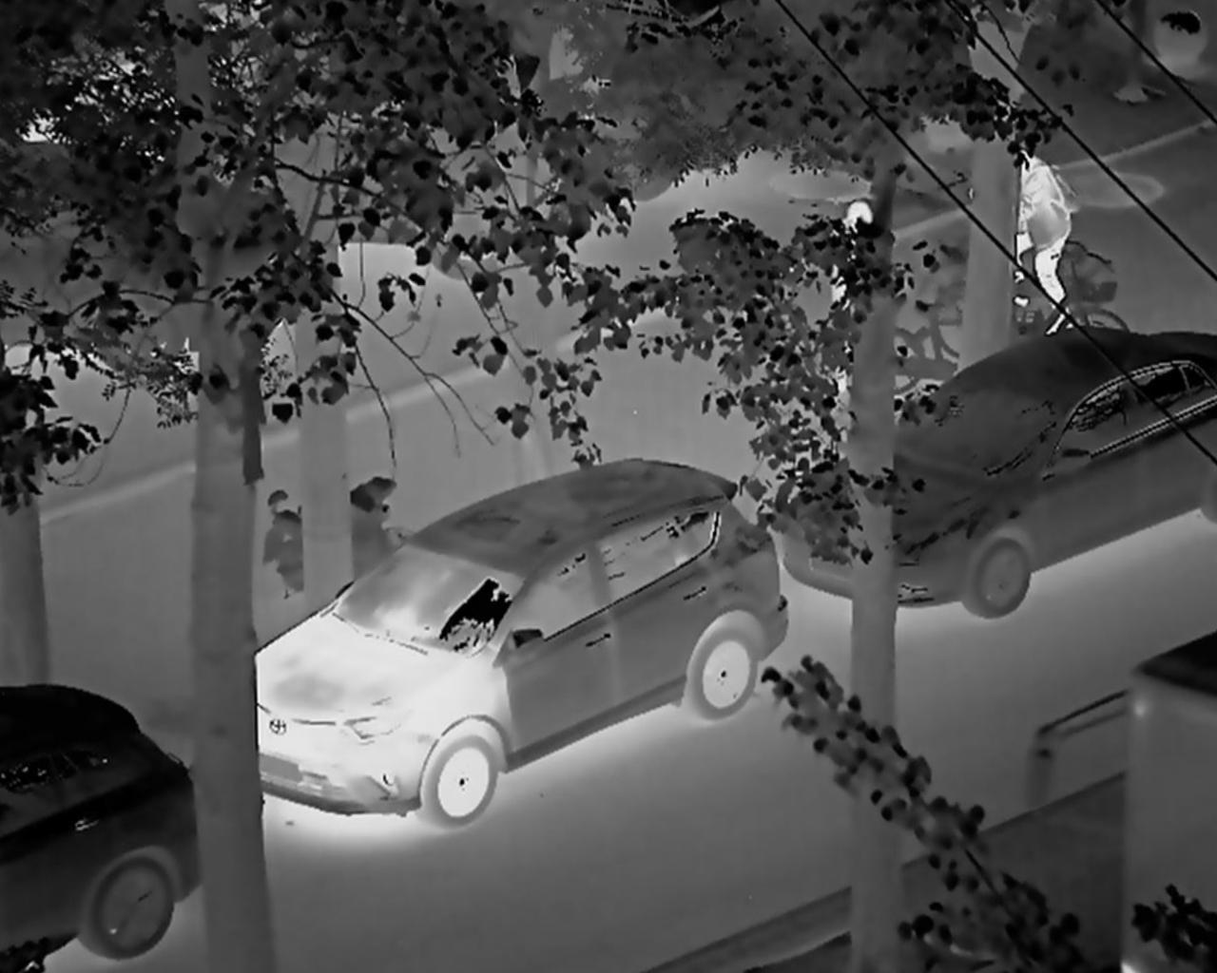person: (1007, 132, 1090, 327)
